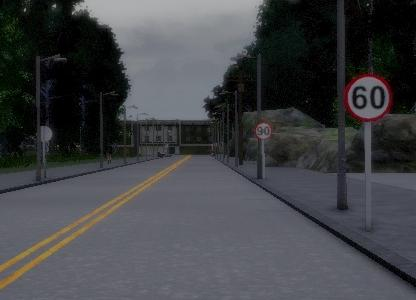Speed_60: (344, 70, 394, 123)
